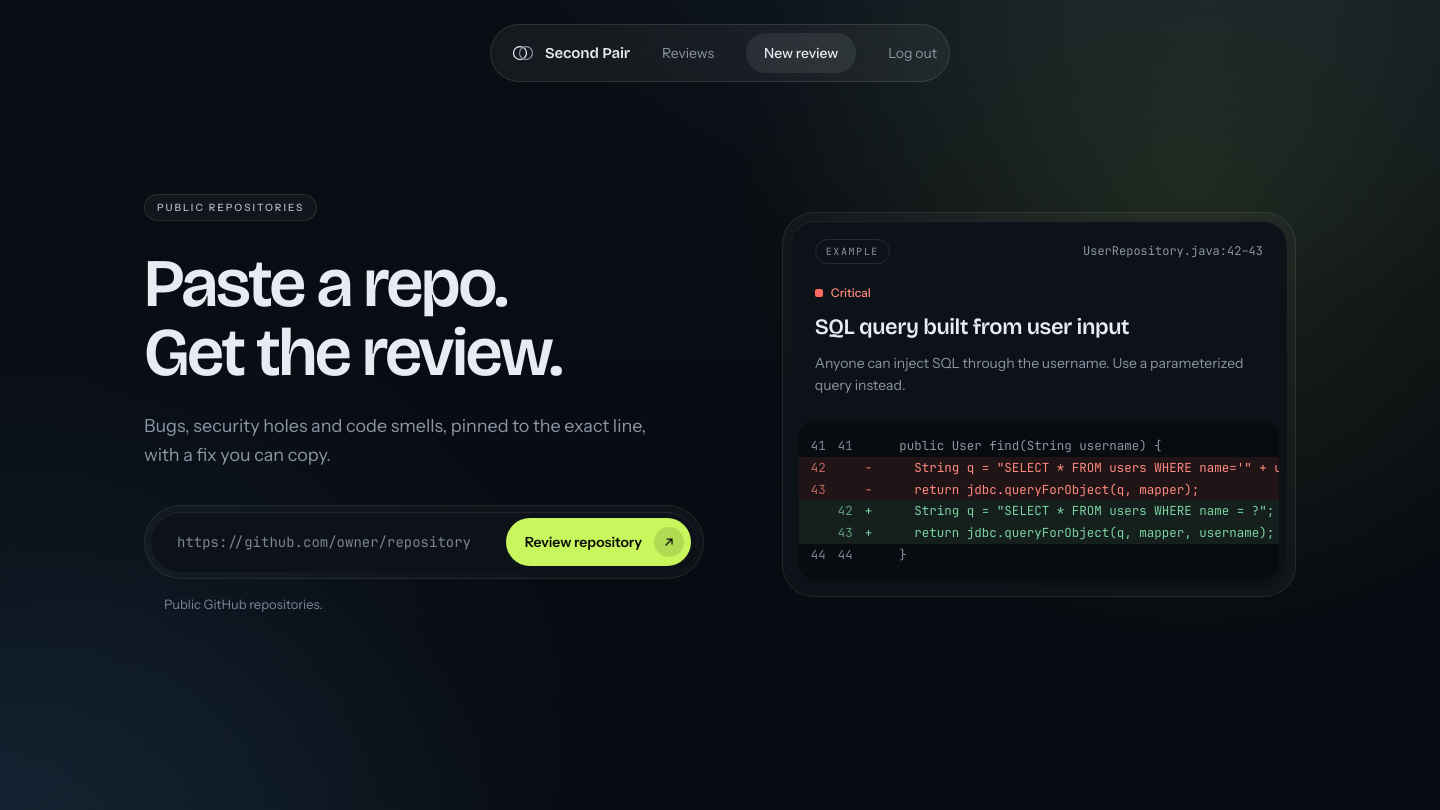
Test: LandingPage › shows why the backend refused the URL next to the field
Expected: the link "Reviews" is shown, [662,44,714,62]
Type "gitlab.com/octo/demo" into the field named "GitHub repository URL" at [327, 542], box [157,518,498,566]
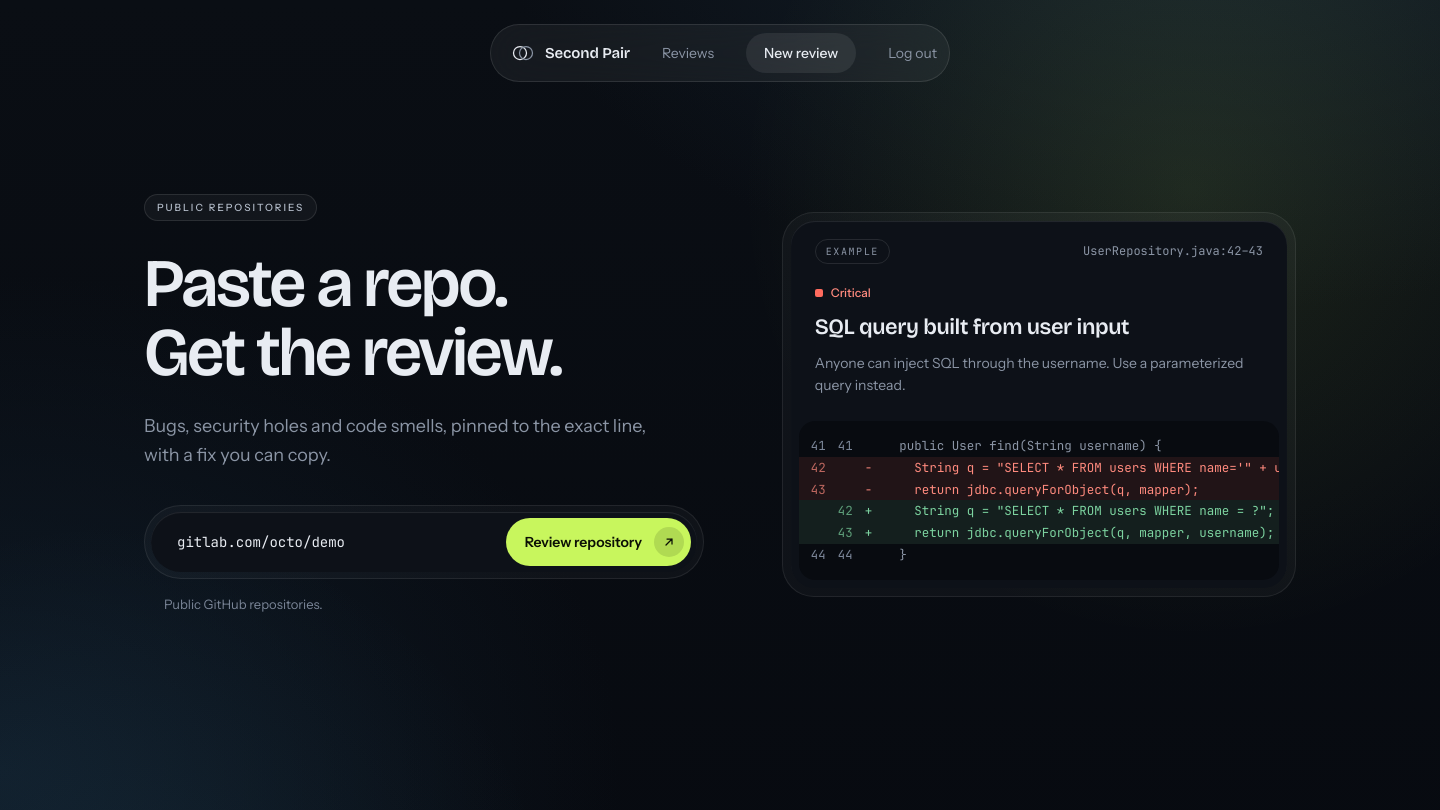
Click the button "Review repository" at [598, 542], box [506,518,691,566]
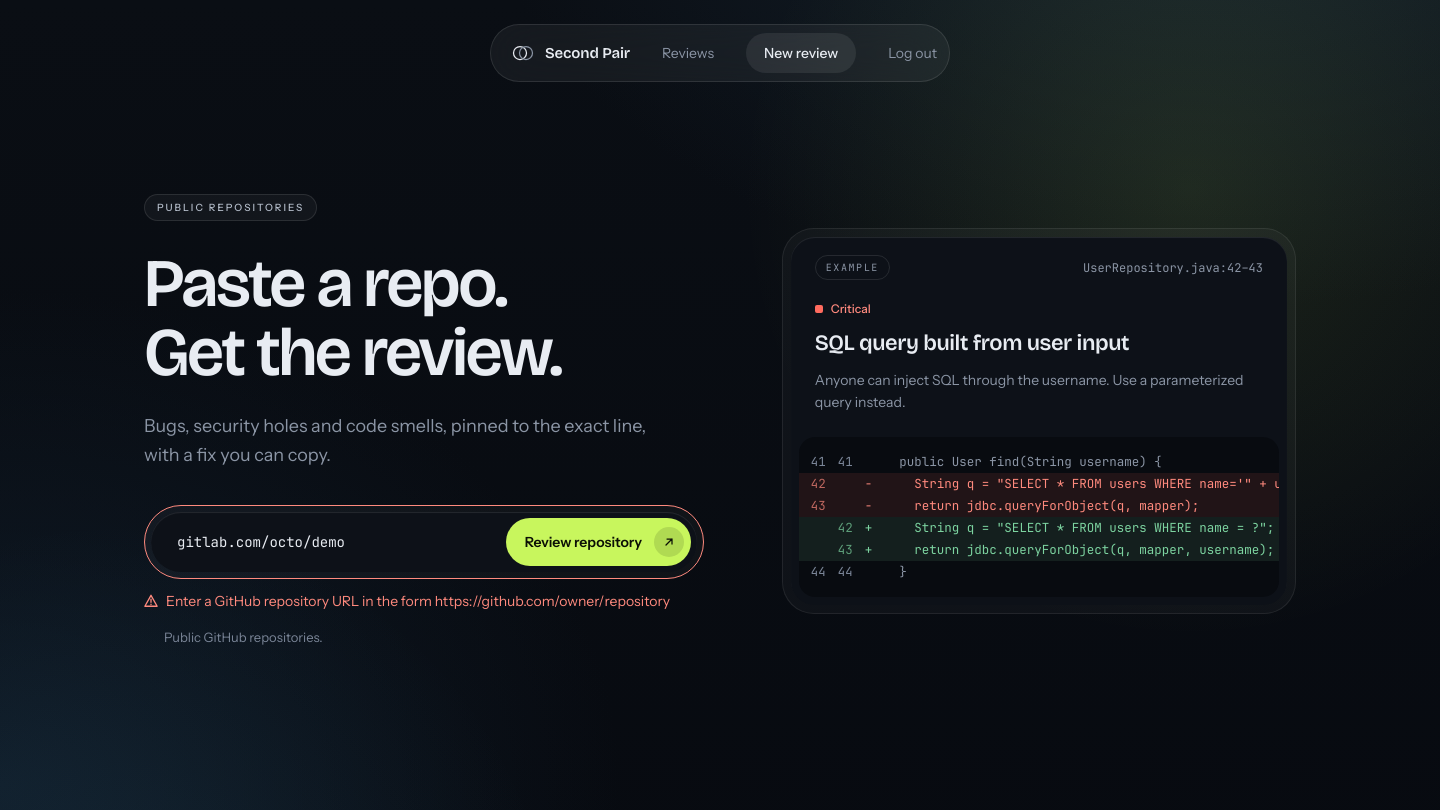
Expected: the message reads "Enter a GitHub repository URL in the form https://github.com/owner/repository", [166,592,670,610]
